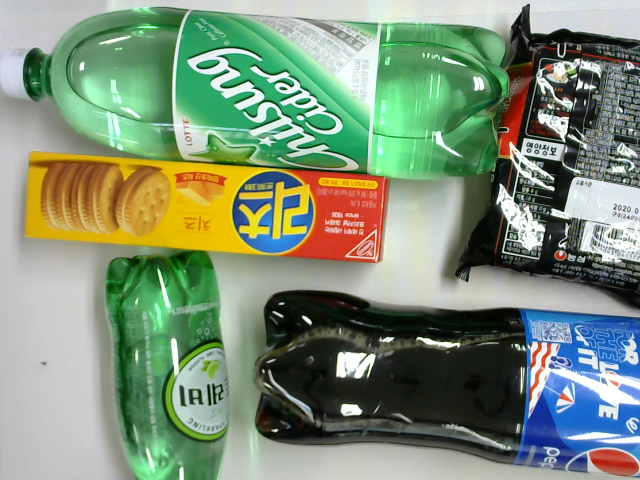Chilseong_Cider_1.5L: (1, 4, 518, 181)
Pepsi_Cola_1.5L: (253, 288, 640, 479)
Ritz_Sand_Cracker: (21, 149, 393, 264)
Sinramen_Black: (455, 5, 640, 312)
Treviraim_500ml: (103, 247, 232, 480)
